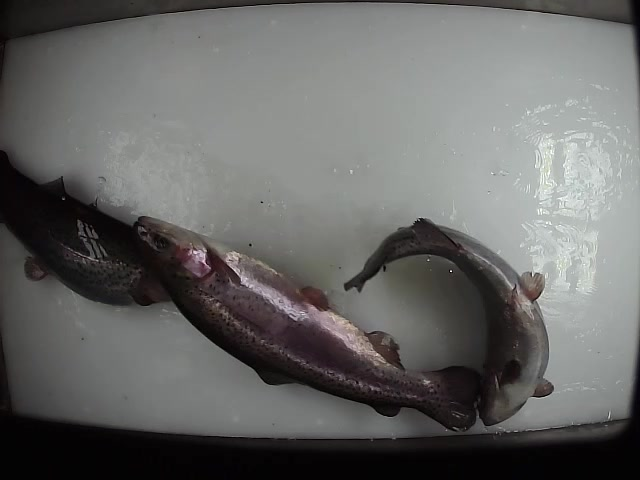fish: (131, 214, 483, 432), (342, 216, 558, 428)
